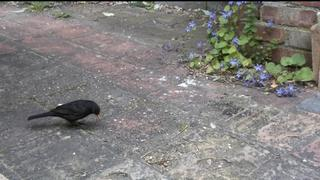blackbird: (27, 99, 100, 128)
